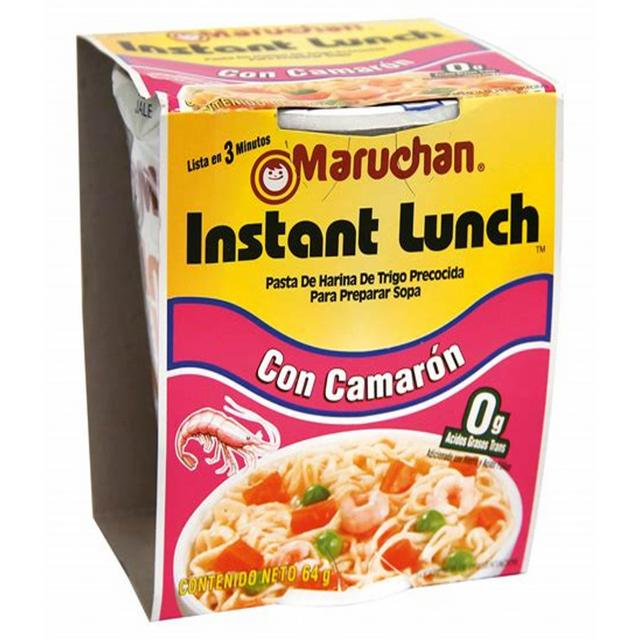Lata: (64, 6, 566, 628)
